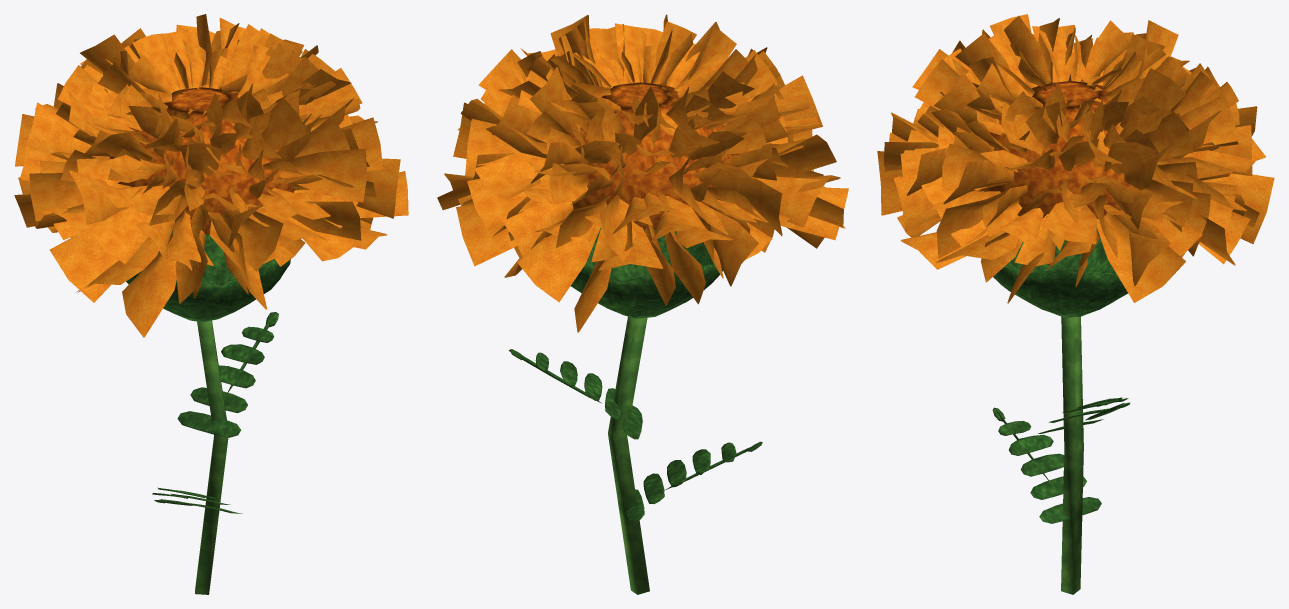
The model's file is flor_cempasuchil.obj.
3 views of the same model, side by side, from view 1: azimuth 30°, elevation 25°; view 2: azimuth 150°, elevation 25°; view 3: azimuth 270°, elevation 25° (orthographic).
Parts seen in each view (by area): view 1: Flor_Cempasuchil; view 2: Flor_Cempasuchil; view 3: Flor_Cempasuchil.
Boxes of the visible parts, x1,y1,x2,y2 form: Flor_Cempasuchil: (14,14,408,594); Flor_Cempasuchil: (437,14,848,594); Flor_Cempasuchil: (877,14,1274,594).
Size of the model in its own units: 0.2395 by 0.3586 by 0.2362.
4 materials, 4 textured.
